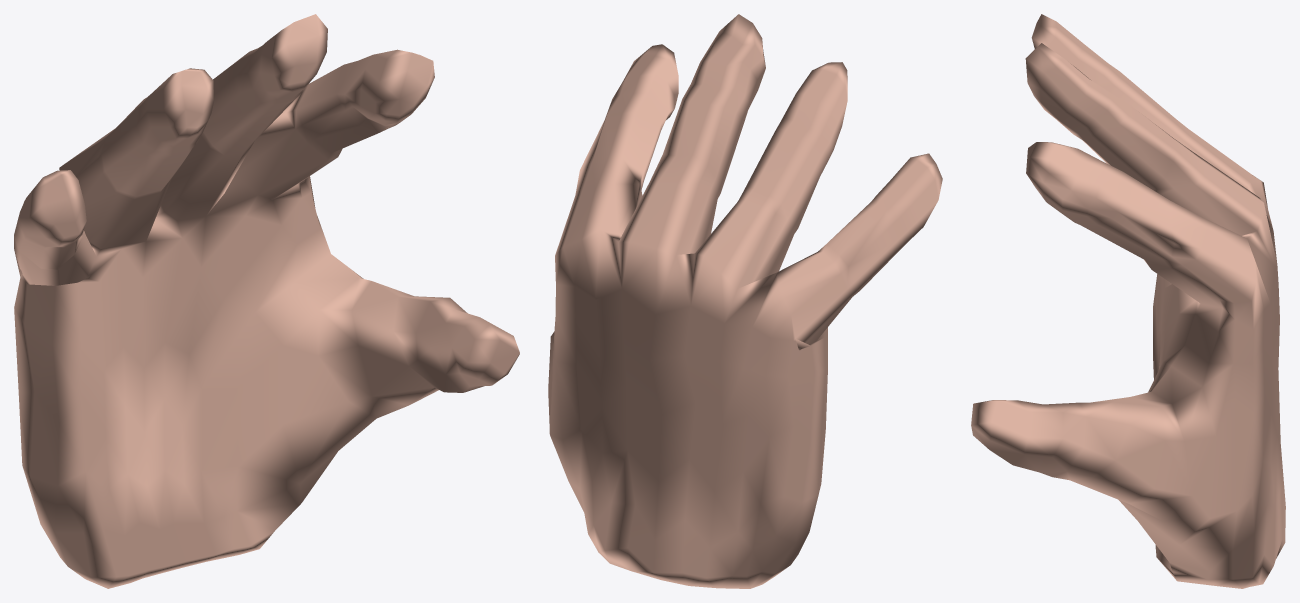
File: ANGULO_ABERTO_AFASTADO.obj
3 renders of one model, left to right at view 1: azimuth 30°, elevation 25°; view 2: azimuth 150°, elevation 25°; view 3: azimuth 270°, elevation 25°, orthographic. The views are drawn at different scales.
Parts seen in each view (by area): view 1: mao_dir:mao_dir; view 2: mao_dir:mao_dir; view 3: mao_dir:mao_dir.
Boxes of the visible parts, box(x1,y1,x2,y2) form: mao_dir:mao_dir: box(14, 14, 519, 588); mao_dir:mao_dir: box(548, 14, 942, 588); mao_dir:mao_dir: box(971, 14, 1285, 588).
Bounding box in the file's own units: 167 × 214 × 116.
